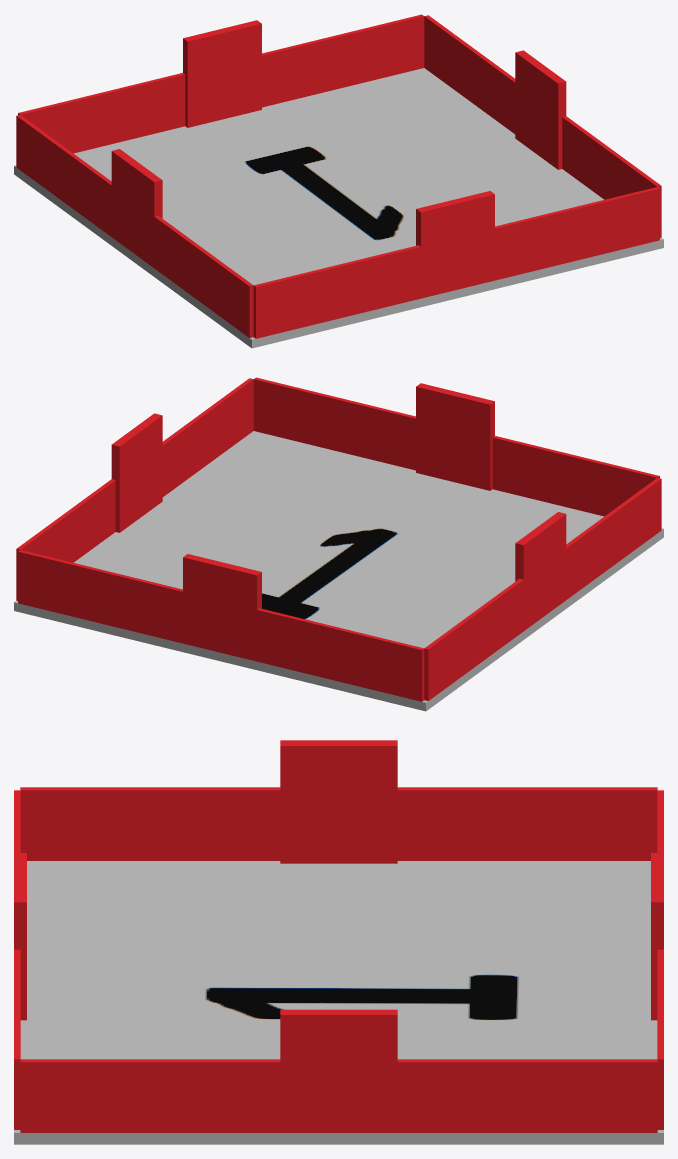
Rendered from Level1.fbx.
The picture shows the model from 3 angles, top to bottom: view 1: azimuth 30°, elevation 25°; view 2: azimuth 150°, elevation 25°; view 3: azimuth 270°, elevation 25°; orthographic projection. The views are drawn at different scales.
Visible parts, largest first — view 1: polySurface36; view 2: polySurface36; view 3: polySurface36.
Boxes of the visible parts, bbox=[...] form: polySurface36: bbox=[14, 14, 663, 348]; polySurface36: bbox=[14, 377, 663, 711]; polySurface36: bbox=[14, 740, 663, 1144].
Bounding box in the file's own units: 100 × 22 × 100.
